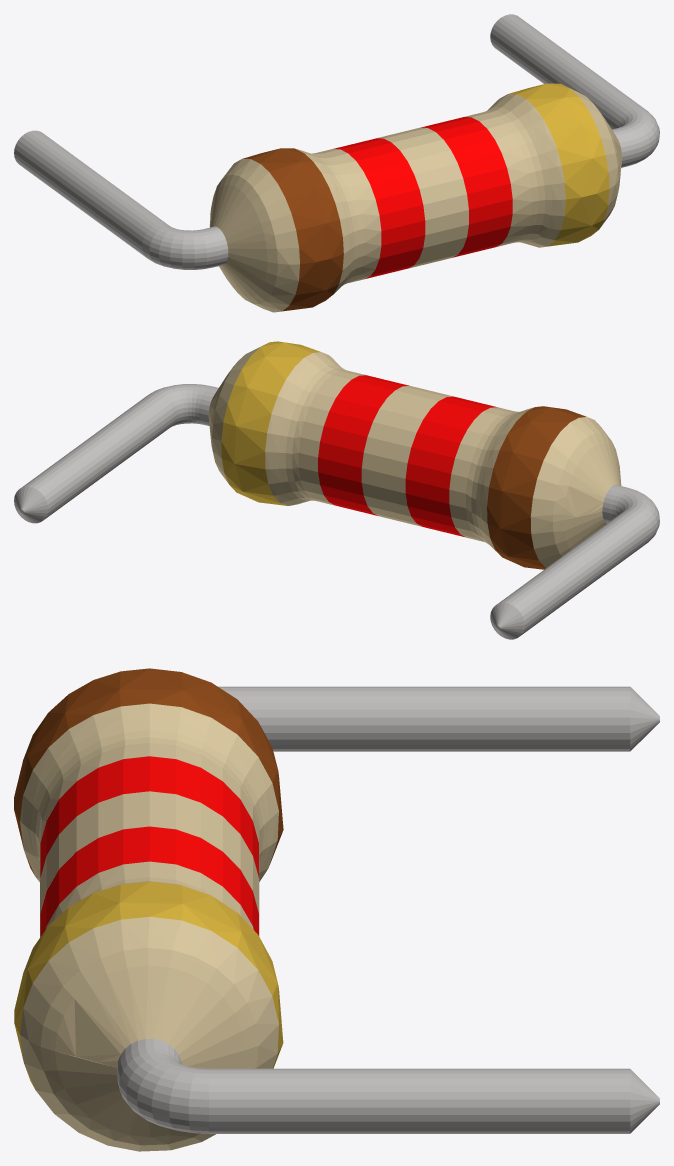
Rendered from Yageo CFR-25 Resistor Axial P7.62mm 1,2 kOhm.obj.
3 views of the same model, one above another, from view 1: azimuth 30°, elevation 25°; view 2: azimuth 150°, elevation 25°; view 3: azimuth 270°, elevation 25° (orthographic). The views are drawn at different scales.
Visible parts, largest first — view 1: Yageo_CFR-25_Resistor_Axial_P7.62mm_1,2_kOhm; view 2: Yageo_CFR-25_Resistor_Axial_P7.62mm_1,2_kOhm; view 3: Yageo_CFR-25_Resistor_Axial_P7.62mm_1,2_kOhm.
Part boxes in pixels (<box>): Yageo_CFR-25_Resistor_Axial_P7.62mm_1,2_kOhm: <box>14,14,659,312</box>; Yageo_CFR-25_Resistor_Axial_P7.62mm_1,2_kOhm: <box>14,341,659,639</box>; Yageo_CFR-25_Resistor_Axial_P7.62mm_1,2_kOhm: <box>14,668,659,1151</box>.
Bounding box in the file's own units: 0.0273 × 0.00754 × 0.0182.
